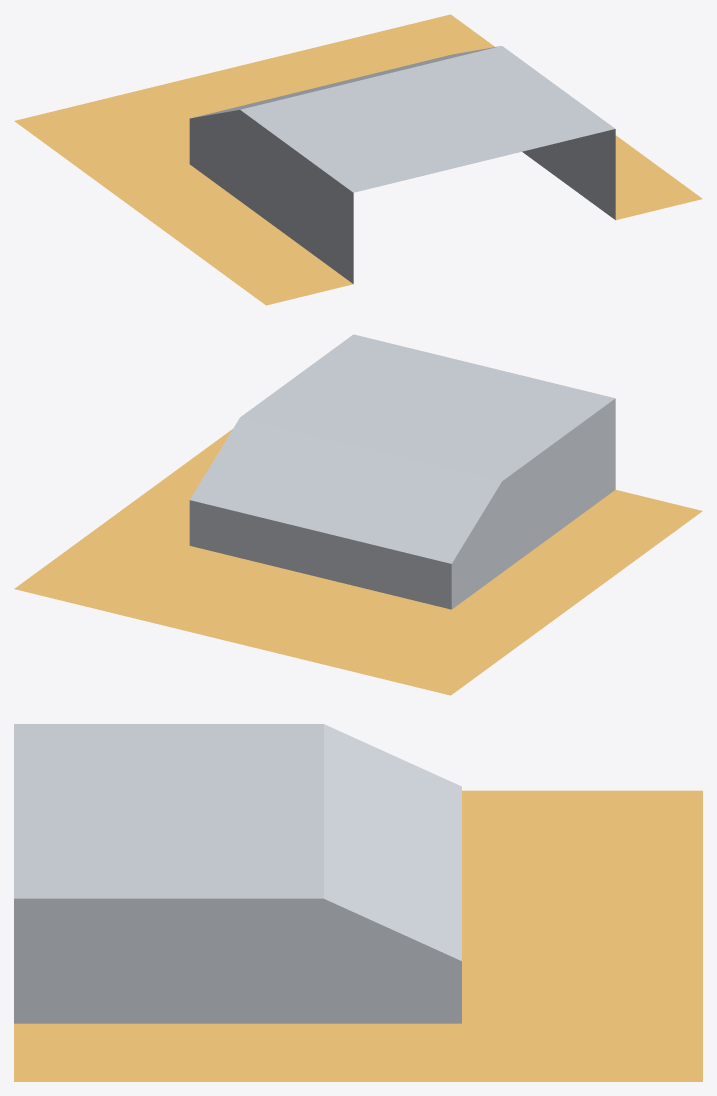
The picture shows the model from 3 angles, top to bottom: view 1: azimuth 30°, elevation 25°; view 2: azimuth 150°, elevation 25°; view 3: azimuth 270°, elevation 25°; orthographic projection. The views are drawn at different scales.
Bounding box in the file's own units: 1 × 0.2 × 1.
